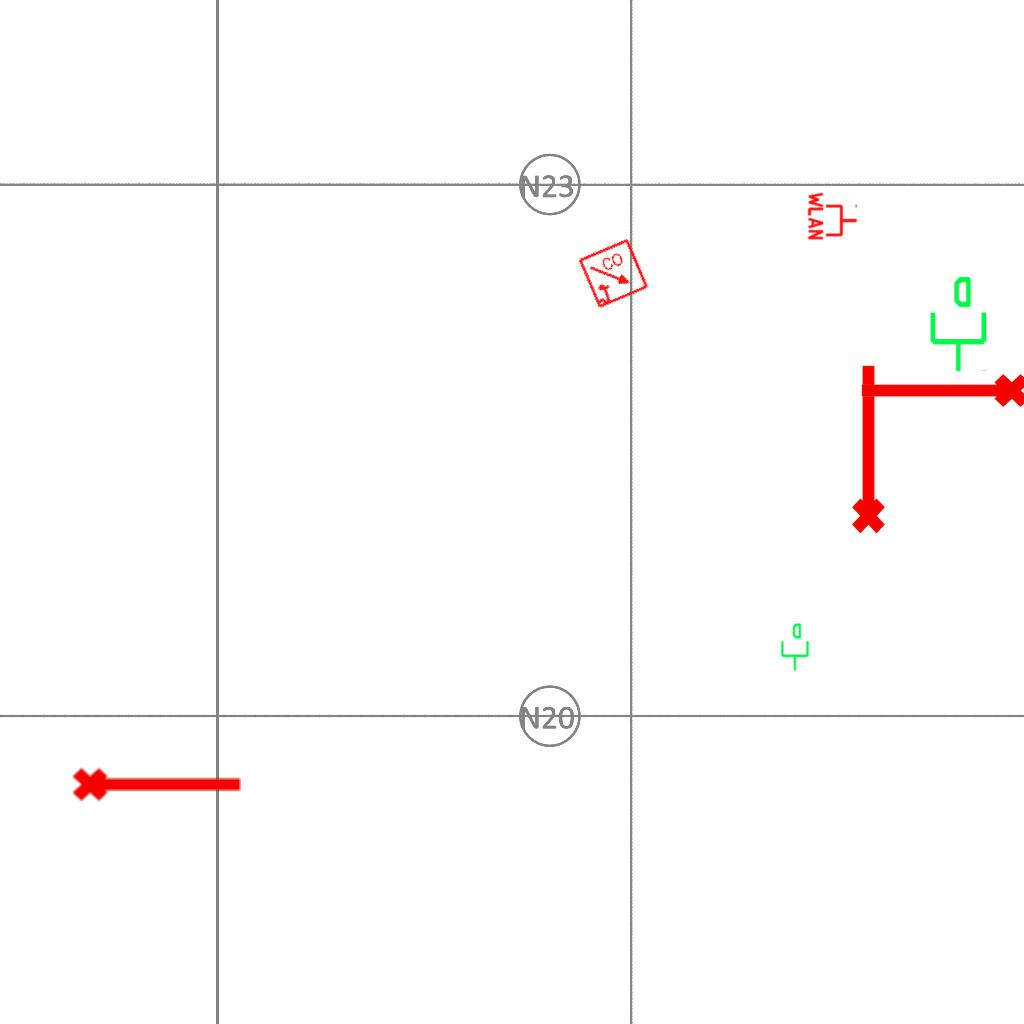ASR_Ansaugoeffnung: (843, 360, 889, 536), (70, 759, 246, 805), (856, 370, 1024, 416)
Datenanschluss_einfach: (922, 274, 991, 374), (777, 622, 811, 672)
ROA_Rauchmelder_optisch_mit_Signalgeber_(Sockelsirene): (577, 237, 651, 311)
WLAN: (807, 190, 859, 242)
